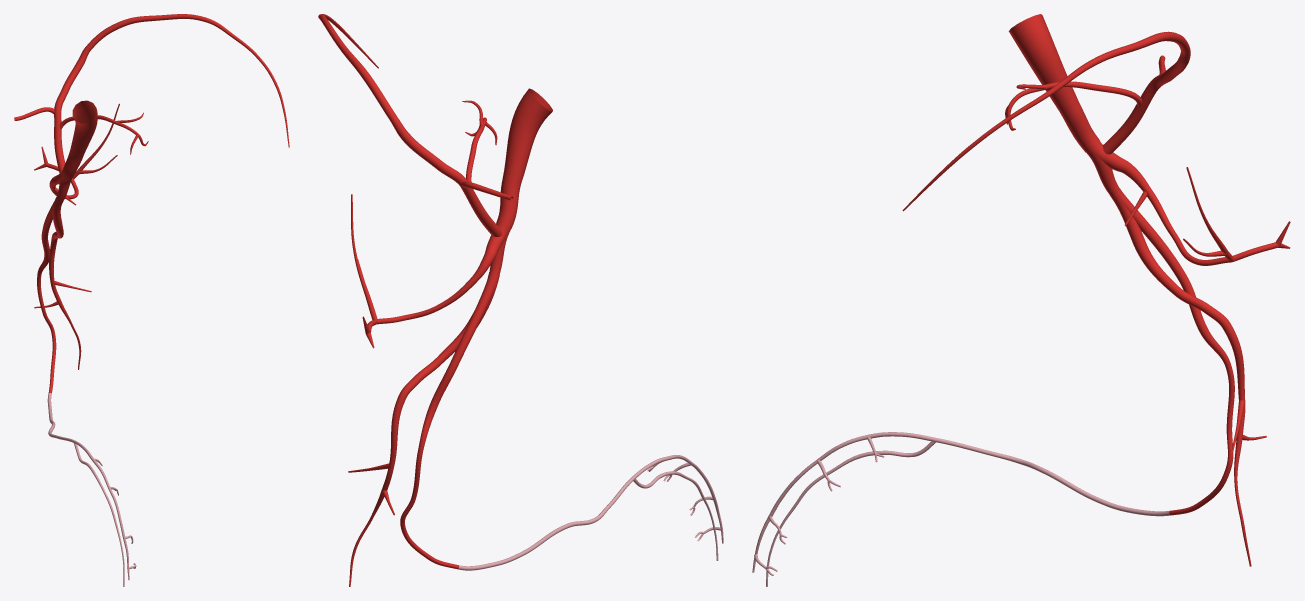
Rendered from circulatorio-internal-iliac-artery-l.glb.
3 views of the same model, side by side, from view 1: azimuth 30°, elevation 25°; view 2: azimuth 150°, elevation 25°; view 3: azimuth 270°, elevation 25° (orthographic). The views are drawn at different scales.
Visible parts, largest first — view 1: Iliacus branch of iliolumbar artery.l, Internal iliac artery.l, Inferior gluteal artery.l, Internal pudendal artery.l, Dorsal artery of penis.l, Superior gluteal artery.l, Lumbar branch of iliolumbar artery.l, Iliolumbar artery.l, Deep artery of penis.l; view 2: Internal iliac artery.l, Internal pudendal artery.l, Inferior gluteal artery.l, Iliacus branch of iliolumbar artery.l, Dorsal artery of penis.l, Superior gluteal artery.l, Iliolumbar artery.l, Lumbar branch of iliolumbar artery.l; view 3: Internal iliac artery.l, Inferior gluteal artery.l, Dorsal artery of penis.l, Internal pudendal artery.l, Iliacus branch of iliolumbar artery.l, Superior gluteal artery.l, Lumbar branch of iliolumbar artery.l, Deep artery of penis.l, Iliolumbar artery.l.
Part boxes in pixels (x1,y1,x2,y2): Iliacus branch of iliolumbar artery.l: [54, 14, 289, 147]; Internal iliac artery.l: [61, 100, 97, 179]; Inferior gluteal artery.l: [34, 198, 91, 369]; Internal pudendal artery.l: [37, 200, 57, 393]; Dorsal artery of penis.l: [47, 393, 136, 580]; Superior gluteal artery.l: [34, 103, 119, 205]; Lumbar branch of iliolumbar artery.l: [59, 112, 148, 154]; Iliolumbar artery.l: [54, 115, 65, 174]; Deep artery of penis.l: [74, 443, 124, 586]; Internal iliac artery.l: [496, 88, 552, 228]; Internal pudendal artery.l: [400, 275, 495, 569]; Inferior gluteal artery.l: [348, 272, 499, 586]; Iliacus branch of iliolumbar artery.l: [318, 14, 467, 189]; Dorsal artery of penis.l: [458, 455, 723, 570]; Superior gluteal artery.l: [351, 194, 500, 348]; Iliolumbar artery.l: [461, 188, 502, 236]; Lumbar branch of iliolumbar artery.l: [462, 100, 497, 182]; Internal iliac artery.l: [1008, 14, 1099, 152]; Inferior gluteal artery.l: [1110, 189, 1266, 566]; Dorsal artery of penis.l: [752, 432, 1170, 575]; Internal pudendal artery.l: [1112, 190, 1234, 515]; Iliacus branch of iliolumbar artery.l: [902, 31, 1190, 211]; Superior gluteal artery.l: [1110, 155, 1290, 265]; Lumbar branch of iliolumbar artery.l: [1005, 81, 1142, 130]; Deep artery of penis.l: [766, 441, 935, 586]; Iliolumbar artery.l: [1103, 88, 1155, 154].
Bounding box in the file's own units: 0.1212 × 0.2331 × 0.1709.
